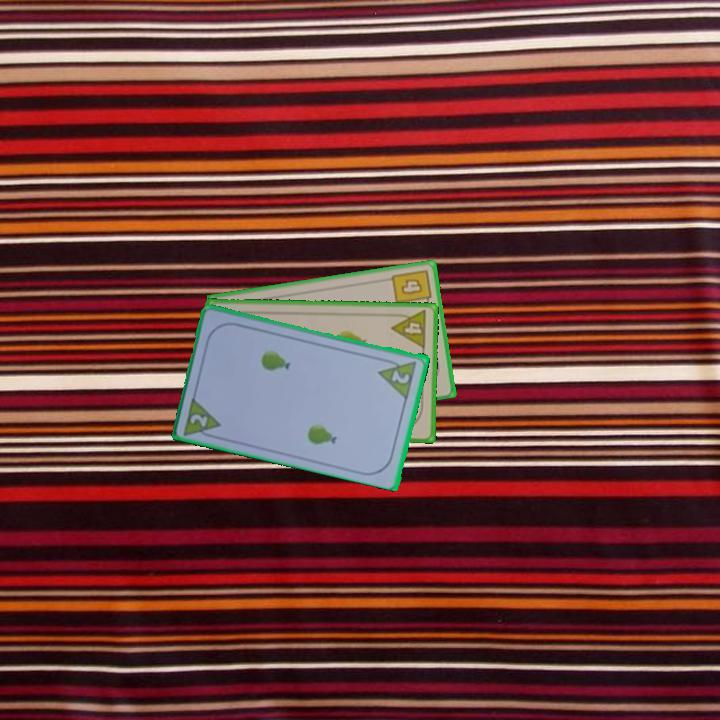2p: (180, 392, 225, 442), (375, 354, 420, 400)
4b: (388, 265, 434, 309)
4p: (388, 307, 430, 351)
